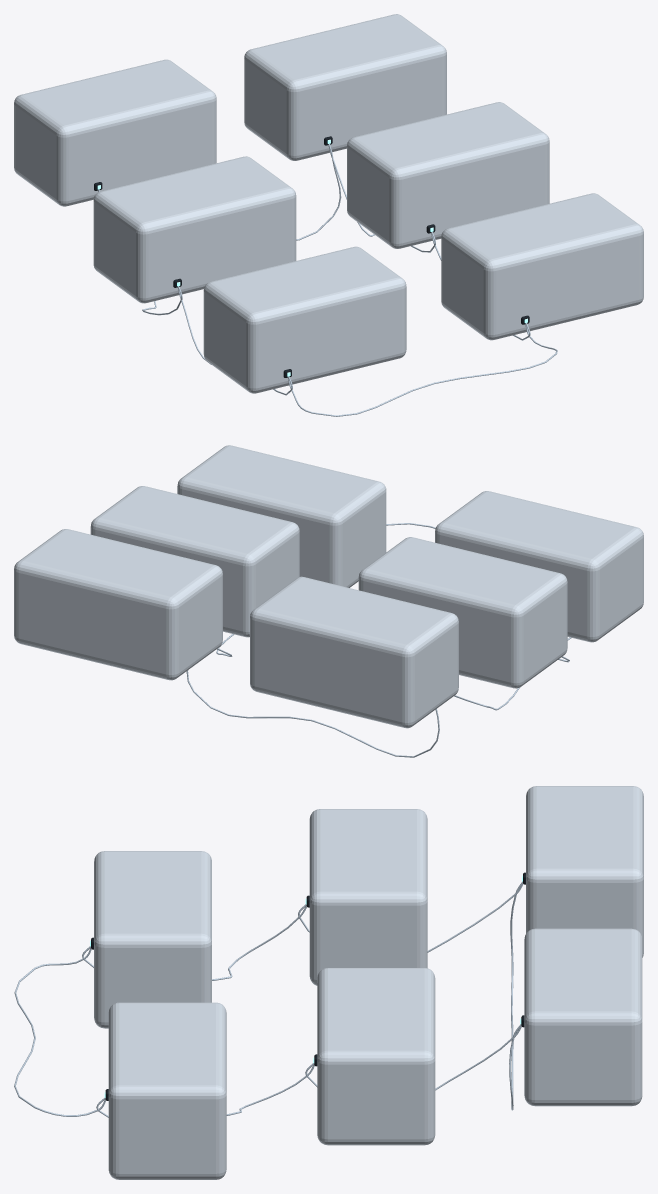
File: graphite.glb
The picture shows the model from 3 angles, top to bottom: view 1: azimuth 30°, elevation 25°; view 2: azimuth 150°, elevation 25°; view 3: azimuth 270°, elevation 25°; orthographic projection. The views are drawn at different scales.
Visible parts, largest first — view 1: Module 05 / glass shell, Module 06 / glass shell, Module 03 / glass shell, Module 01 / glass shell, Module 04 / glass shell, Module 02 / glass shell, Graphite · Connections / Graphite / fine brushed silver; view 2: Module 01 / glass shell, Module 02 / glass shell, Module 03 / glass shell, Module 05 / glass shell, Module 06 / glass shell, Module 04 / glass shell, Graphite · Connections / Graphite / fine brushed silver; view 3: Module 02 / glass shell, Module 06 / glass shell, Module 04 / glass shell, Module 03 / glass shell, Module 05 / glass shell, Module 01 / glass shell, Graphite · Connections / Graphite / fine brushed silver.
Part boxes in pixels (x1,y1,x2,y2): Module 05 / glass shell: (203, 246, 406, 393); Module 06 / glass shell: (441, 193, 643, 340); Module 03 / glass shell: (93, 156, 296, 303); Module 01 / glass shell: (14, 59, 216, 206); Module 04 / glass shell: (347, 102, 549, 248); Module 02 / glass shell: (244, 14, 446, 160); Graphite · Connections / Graphite / fine brushed silver: (98, 144, 557, 416); Module 01 / glass shell: (250, 576, 458, 728); Module 02 / glass shell: (14, 529, 222, 680); Module 03 / glass shell: (358, 537, 567, 688); Module 05 / glass shell: (435, 491, 643, 642); Module 06 / glass shell: (177, 445, 386, 587); Module 04 / glass shell: (90, 486, 299, 637); Graphite · Connections / Graphite / fine brushed silver: (186, 523, 571, 757); Module 02 / glass shell: (524, 928, 642, 1106); Module 06 / glass shell: (108, 1002, 226, 1179); Module 04 / glass shell: (317, 968, 435, 1145); Module 03 / glass shell: (309, 809, 427, 985); Module 05 / glass shell: (94, 851, 211, 1028); Module 01 / glass shell: (526, 786, 643, 957); Graphite · Connections / Graphite / fine brushed silver: (14, 881, 523, 1117).
Size of what is drawn, in the model's own units: 7.46 by 2.74 by 8.27.
